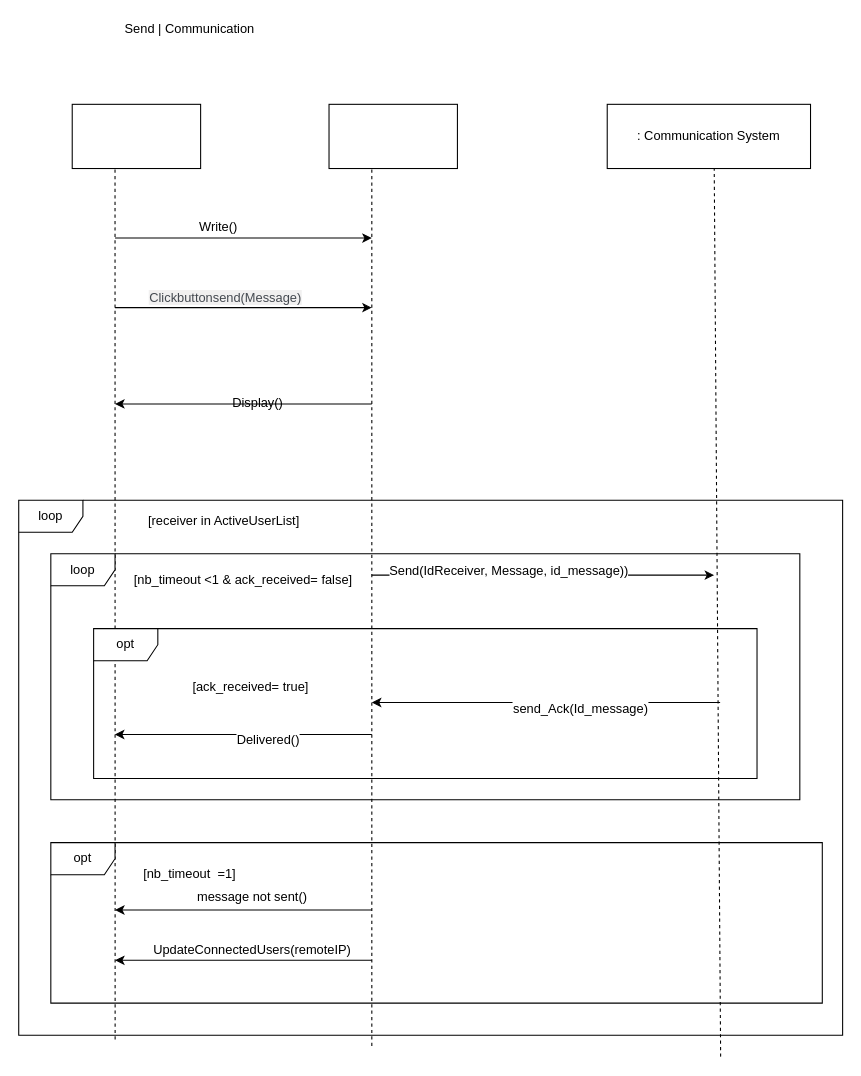
This 861x1076 diagram has some shape labels left out. Each missing label, with the centre of its shape:
":Application" goes at (392,136).
":User" goes at (136,136).
